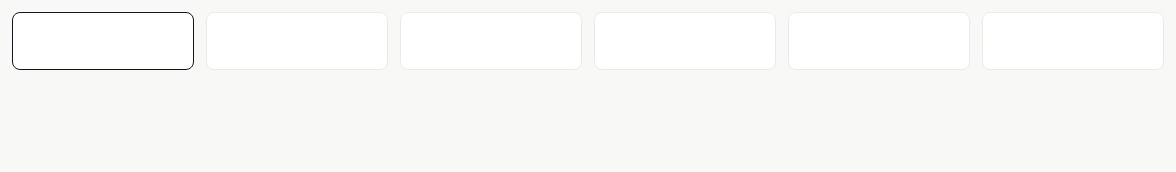
Test: EC-8: the code boxes per channel › keeps a phone code to its digits
The width and height of the screenshot is (1176, 172).
Type "12a3456" into the field named "Digit 1" at (103, 41), box left=12, top=12, right=194, bottom=70
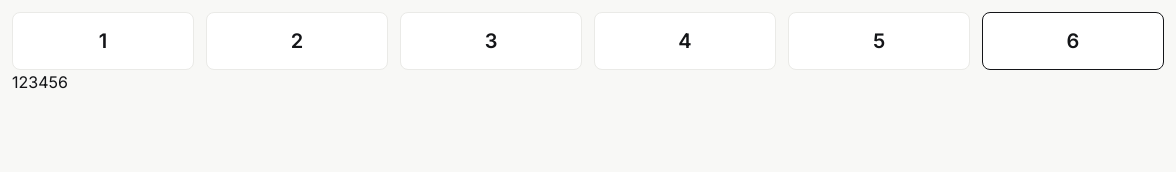
Now the text with test id "value" reads "123456", box left=12, top=72, right=68, bottom=92
Clear the field named "Digit 3" at (491, 41), box left=400, top=12, right=582, bottom=70
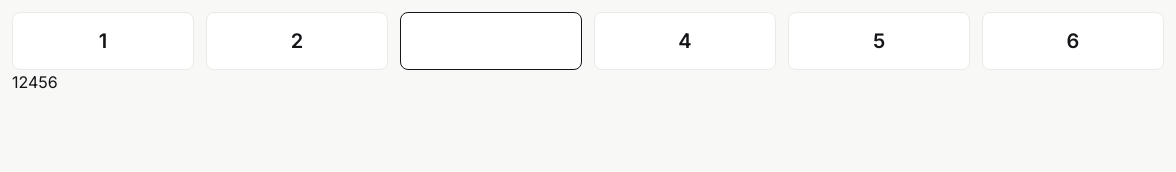
Now the text with test id "value" reads "12456", box left=12, top=72, right=58, bottom=92
